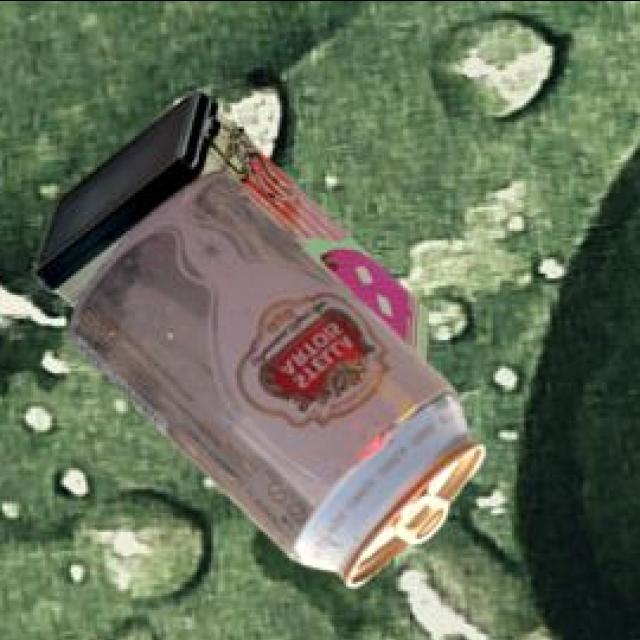logam: (65, 167, 480, 582), (30, 87, 425, 357)
